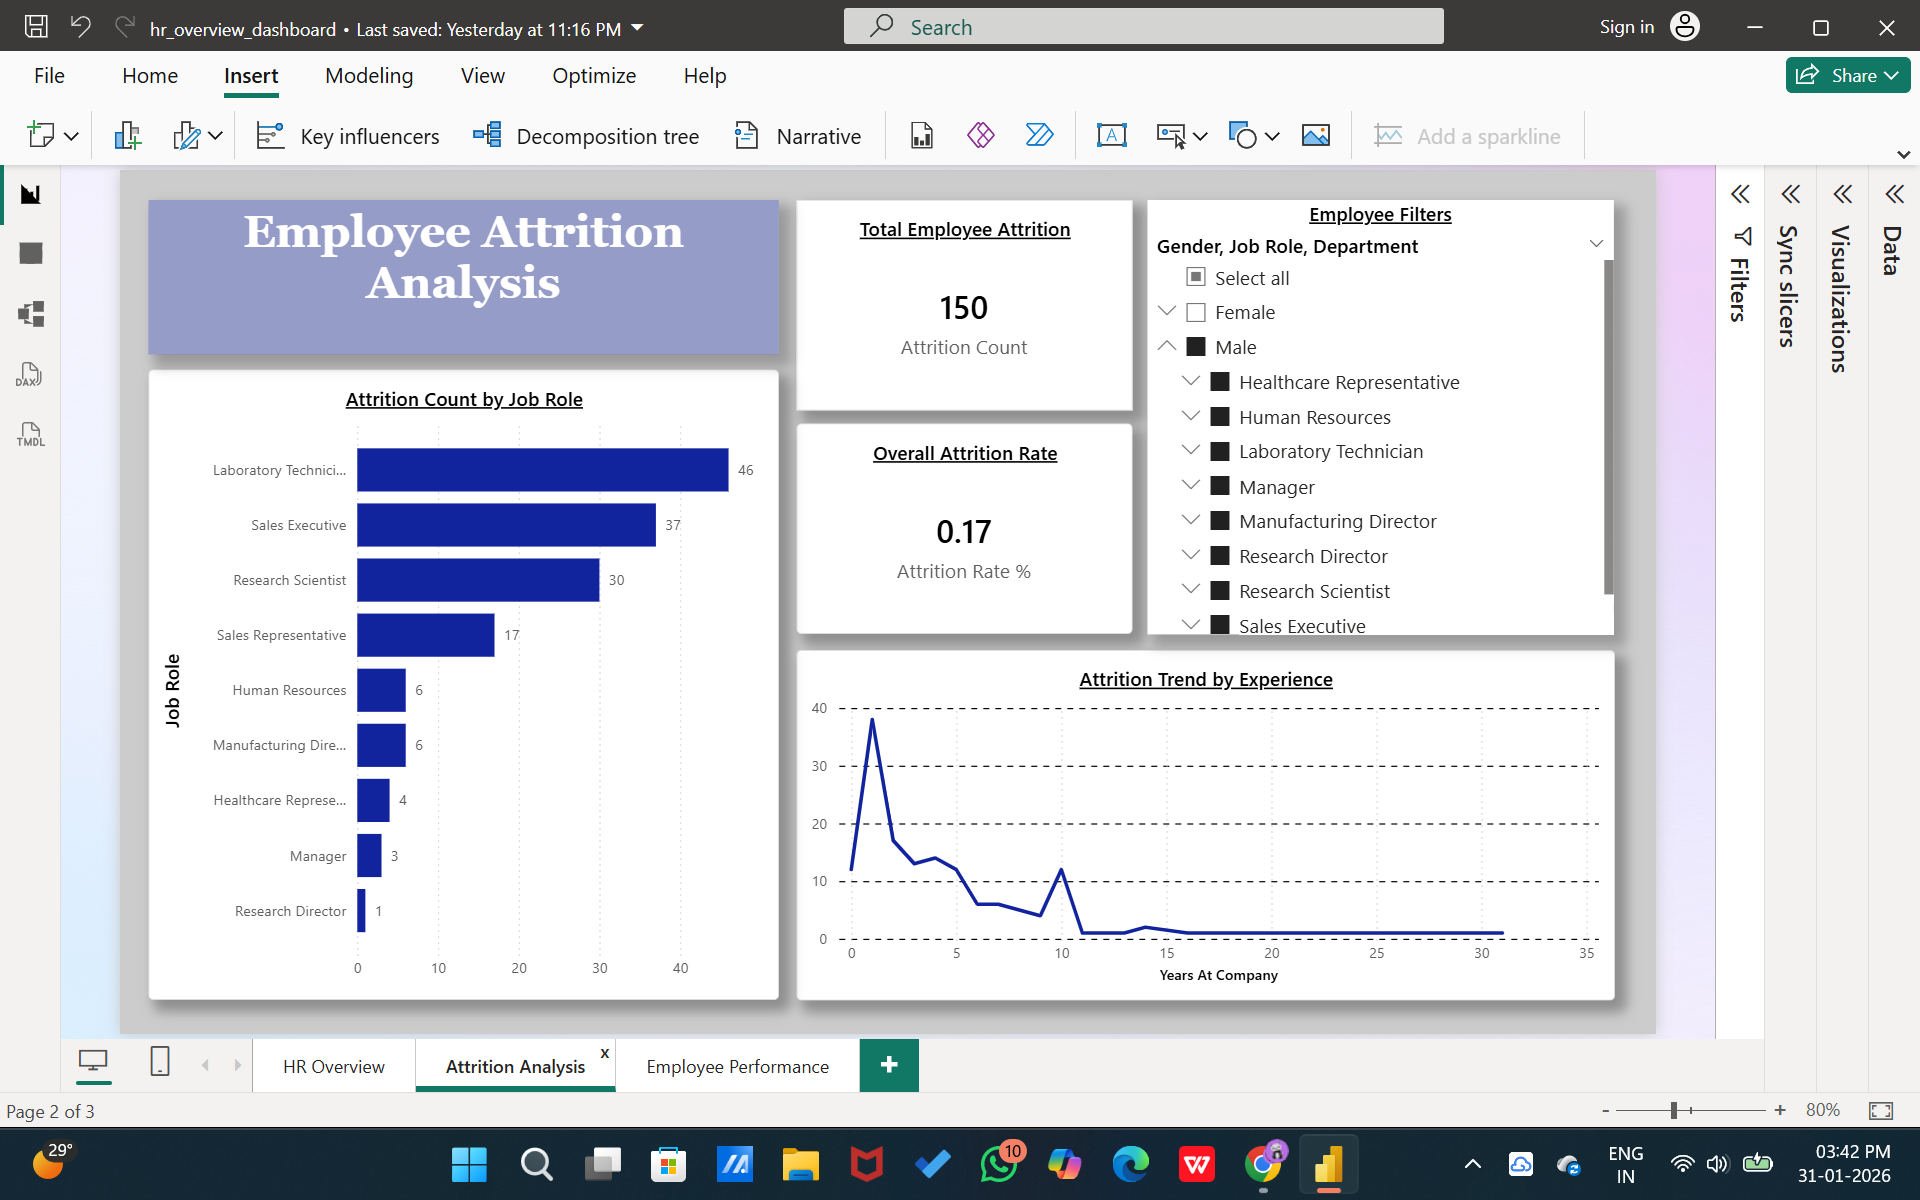

The page's visual inventory and layout, read from the dashboard file:
{"tool":"powerbi","page":{"name":"Attrition Analysis","canvas":[1280,720],"ordinal":1},"visuals":[{"type":"card","title":"Total Employee Attrition","fields":{"Values":["WA_Fn-UseC_-HR-Employee-Attrition.Attrition Count"]},"box":[563.3,25,280,175],"z":0},{"type":"card","title":"Overall Attrition Rate ","fields":{"Values":["WA_Fn-UseC_-HR-Employee-Attrition.Attrition Rate %"]},"box":[563.3,211.7,280,175],"z":1000},{"type":"lineChart","title":"Attrition Trend by Experience","fields":{"Category":["WA_Fn-UseC_-HR-Employee-Attrition.Years At Company"],"Y":["WA_Fn-UseC_-HR-Employee-Attrition.Attrition Count"]},"box":[563.3,400,681.7,291.7],"z":2000},{"type":"barChart","fields":{"Category":["WA_Fn-UseC_-HR-Employee-Attrition.Job Role"],"Y":["WA_Fn-UseC_-HR-Employee-Attrition.Attrition Count"]},"box":[23.3,166.7,525,525],"z":3000},{"type":"slicer","title":"Employee Filters","fields":{"Values":["WA_Fn-UseC_-HR-Employee-Attrition.Gender","WA_Fn-UseC_-HR-Employee-Attrition.Job Role","WA_Fn-UseC_-HR-Employee-Attrition.Department"]},"box":[856.7,25,388.3,361.7],"z":4000},{"type":"textbox","box":[23.3,25,525,128.3],"z":5000}]}

Visuals, with their boxes on the page's 1280x720 design canvas (x1, y1, x2, y2). These are canvas units, not pixel positions in the 1920x1200 screenshot, which may show the page scaled, cropped or inside an application window:
"Total Employee Attrition" card: Rect(563, 25, 843, 200)
"Overall Attrition Rate " card: Rect(563, 212, 843, 387)
"Attrition Trend by Experience" lineChart: Rect(563, 400, 1245, 692)
barChart - WA_Fn-UseC_-HR-Employee-Attrition.Job Role x WA_Fn-UseC_-HR-Employee-Attrition.Attrition Count: Rect(23, 167, 548, 692)
"Employee Filters" slicer: Rect(857, 25, 1245, 387)
textbox: Rect(23, 25, 548, 153)
